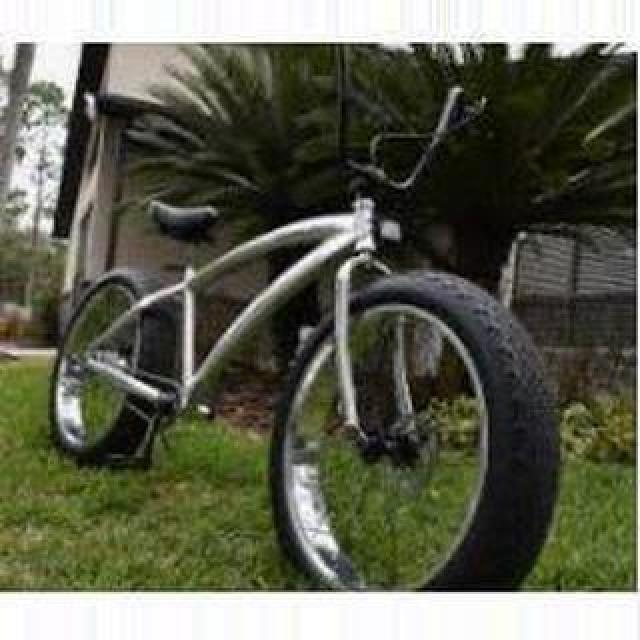Person: (46, 80, 564, 592)
